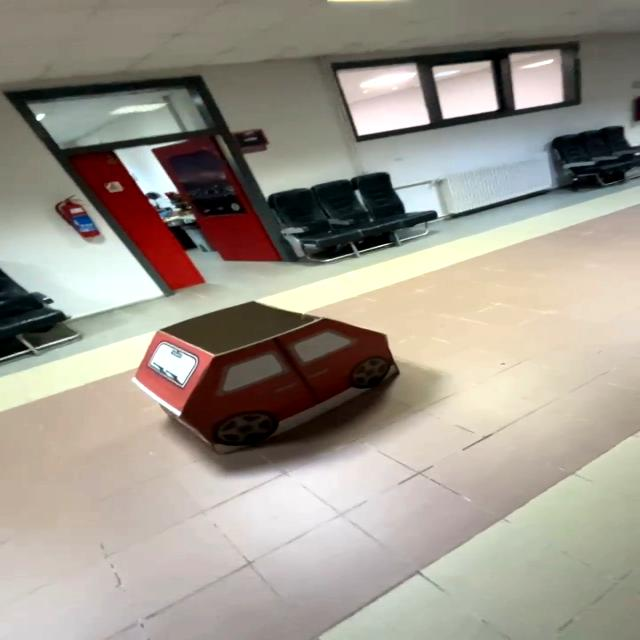red_car: (125, 281, 404, 467)
